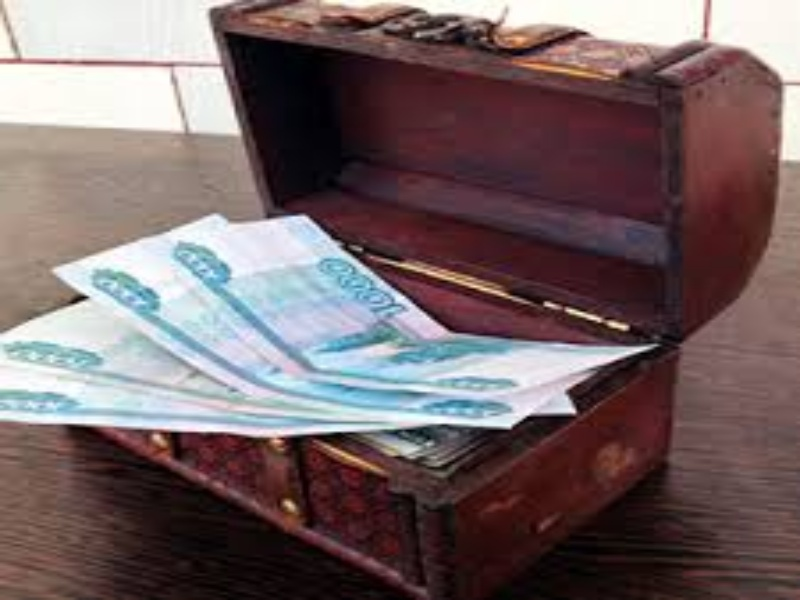cash: (1, 211, 657, 437)
